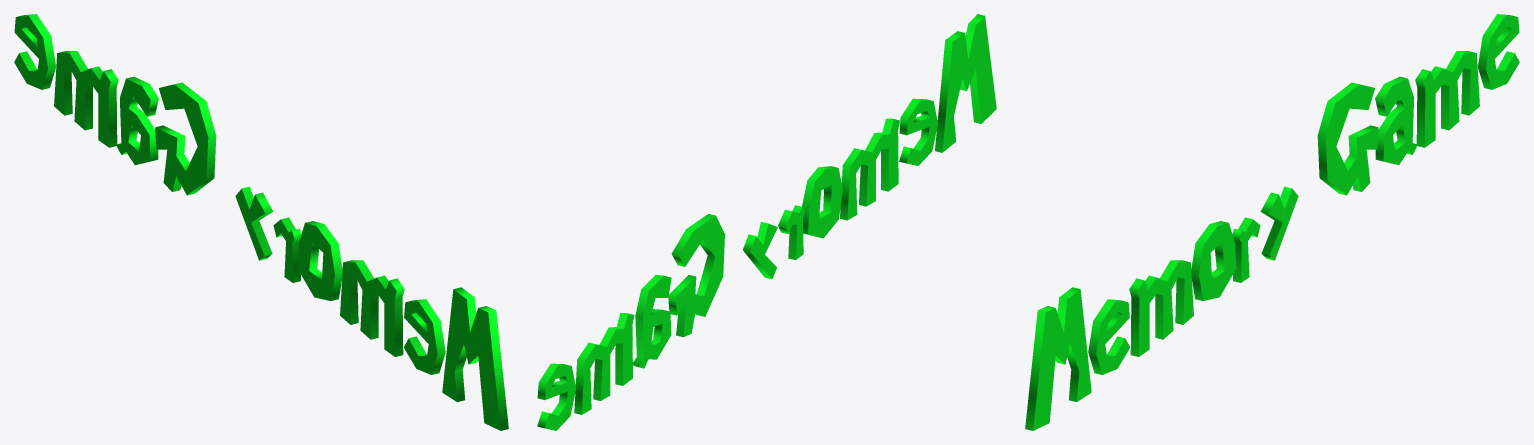
The model's file is subtitle.obj.
3 renders of one model, left to right at view 1: azimuth 30°, elevation 25°; view 2: azimuth 150°, elevation 25°; view 3: azimuth 330°, elevation 25°, orthographic. The views are drawn at different scales.
Visible parts, largest first — view 1: subtitle_CUText.001; view 2: subtitle_CUText.001; view 3: subtitle_CUText.001.
Boxes of the visible parts, bbox=[...] form: subtitle_CUText.001: bbox=[14, 14, 508, 430]; subtitle_CUText.001: bbox=[537, 14, 996, 430]; subtitle_CUText.001: bbox=[1025, 14, 1519, 430].
Size of the model in its own units: 0.0315 by 0.4334 by 3.29.
